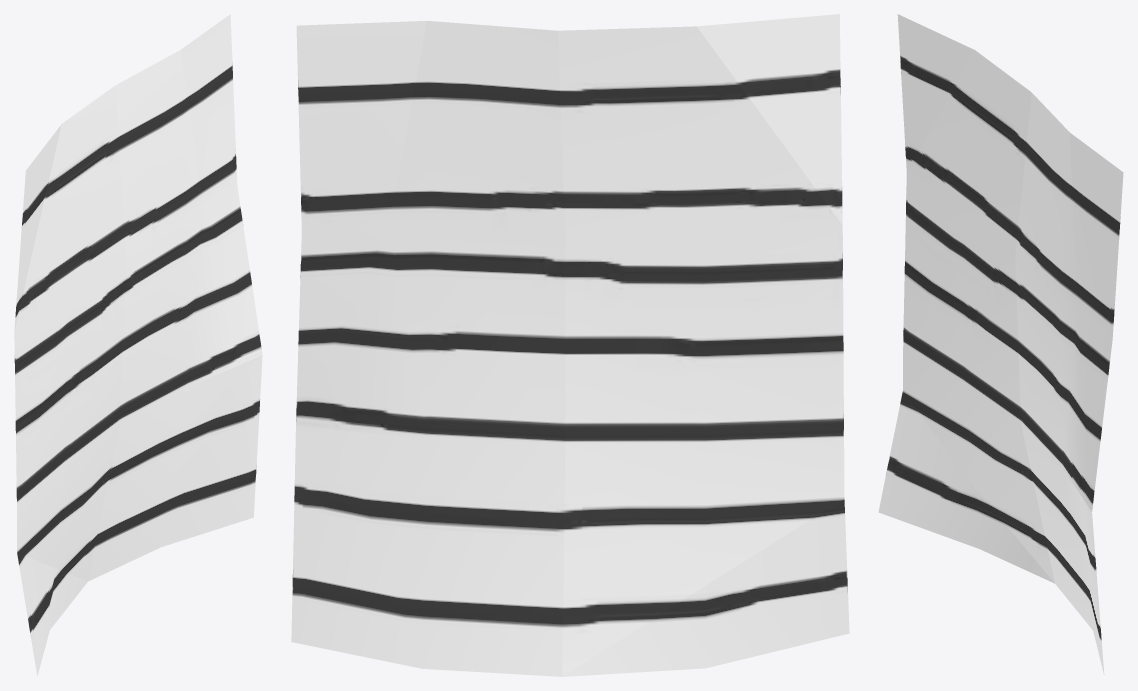
File: paper.glb
The picture shows the model from 3 angles, left to right: view 1: azimuth 30°, elevation 25°; view 2: azimuth 150°, elevation 25°; view 3: azimuth 270°, elevation 25°; orthographic projection. The views are drawn at different scales.
Parts seen in each view (by area): view 1: Plane; view 2: Plane; view 3: Plane.
Boxes of the visible parts, x1=… form: Plane: x1=14, y1=14, x2=262, y2=676; Plane: x1=291, y1=14, x2=849, y2=676; Plane: x1=878, y1=14, x2=1123, y2=675.
Bounding box in the file's own units: 1.84 × 2.6 × 1.15.
1 material, 1 textured.
